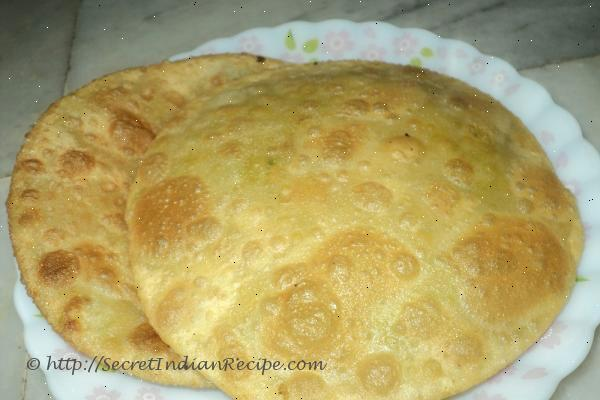puri: (20, 43, 583, 343)
